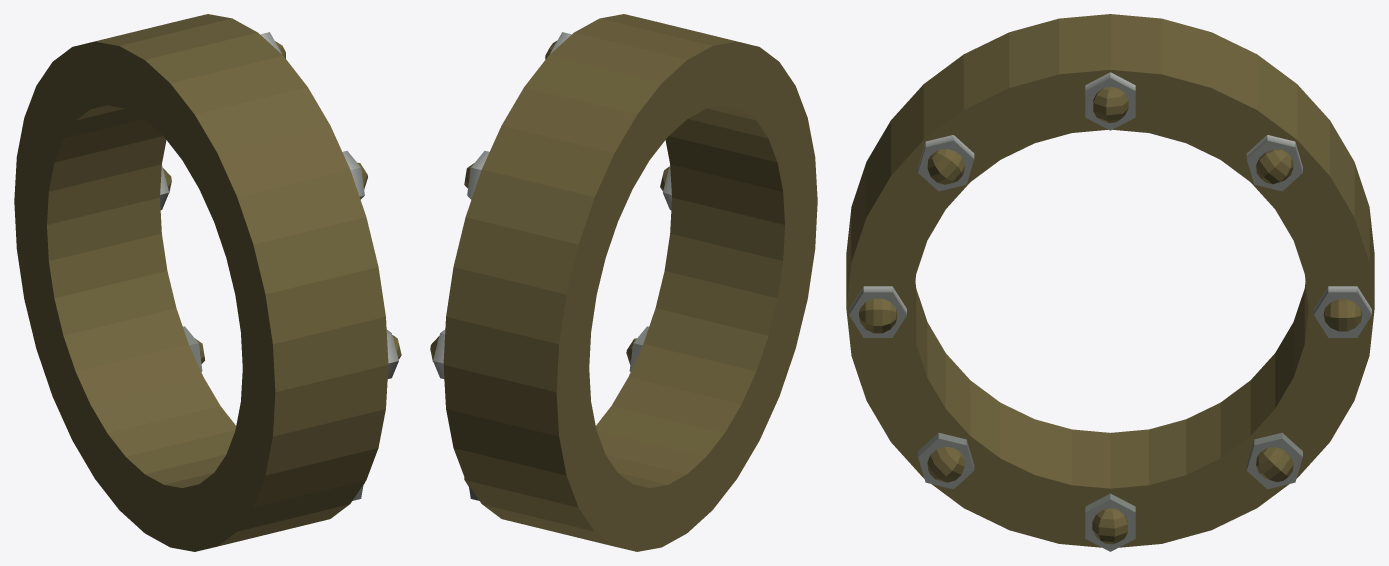
The model's file is porthole2.fbx.
3 renders of one model, left to right at view 1: azimuth 30°, elevation 25°; view 2: azimuth 150°, elevation 25°; view 3: azimuth 270°, elevation 25°, orthographic.
Parts seen in each view (by area): view 1: Cylinder.001; view 2: Cylinder.001; view 3: Cylinder.001.
Part boxes in pixels (x1,y1,x2,y2): Cylinder.001: [14, 14, 401, 551]; Cylinder.001: [430, 14, 817, 551]; Cylinder.001: [846, 14, 1374, 551].
Bounding box in the file's own units: 61.5 × 200 × 200.
